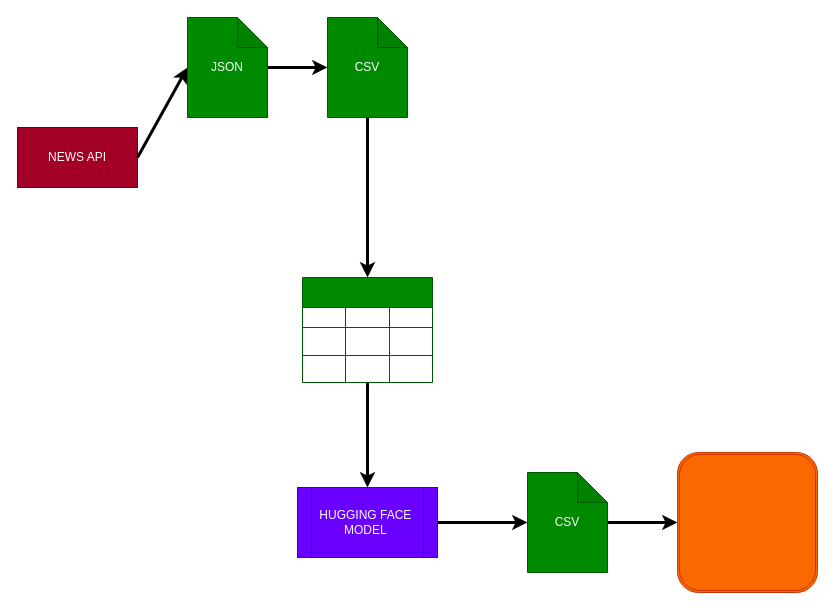
Some shapes in this 835 by 610 pixel diagram are drawn without their labels. The box of each missing label's shape, as (x1, y1, x2, y2) in pixels:
FRONTEND (STREAMLIT): (676, 452, 818, 592)
Pandas Dataframe: (302, 276, 432, 382)
